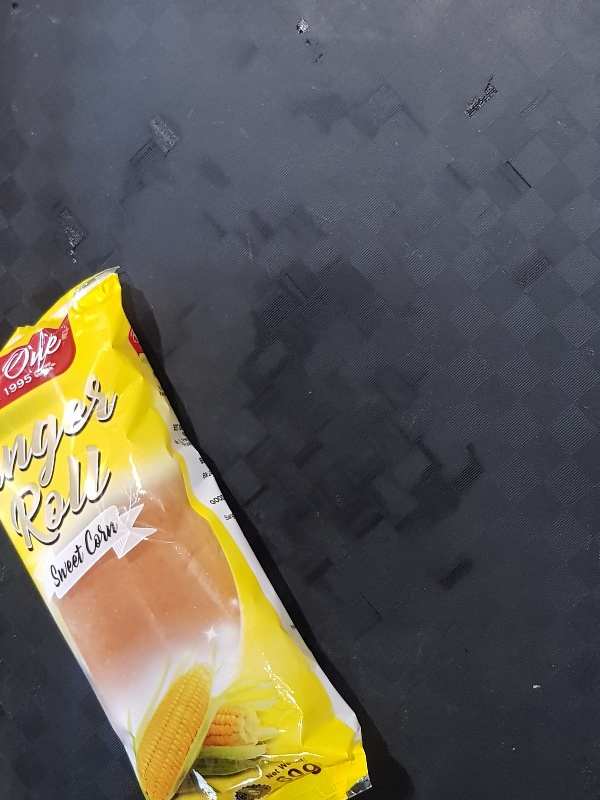Tinges Roll Sweet Corn: (1, 264, 372, 800)
